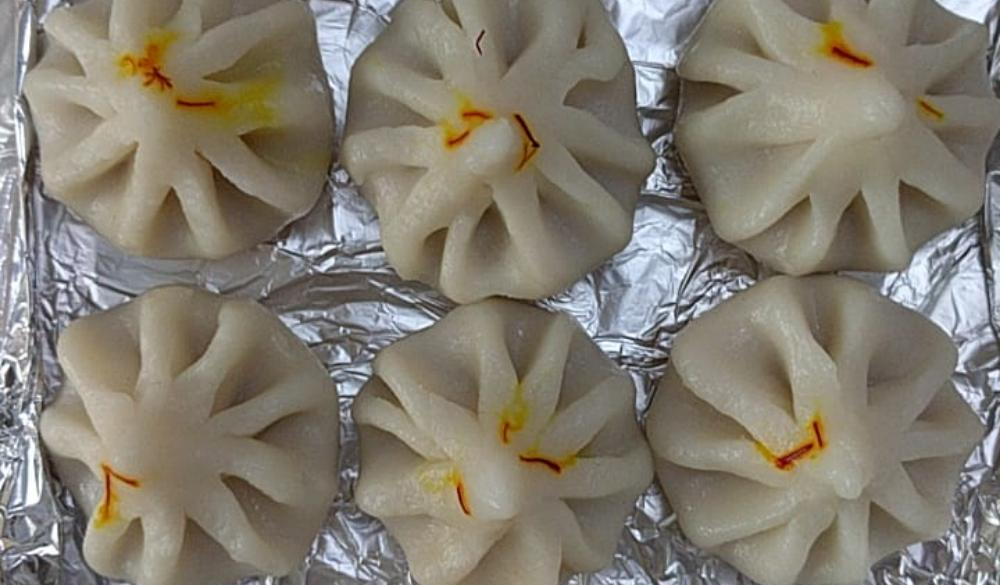modak: (337, 4, 685, 299), (663, 273, 987, 585), (27, 285, 345, 585), (353, 270, 644, 585), (674, 12, 1000, 265), (10, 8, 351, 249)
